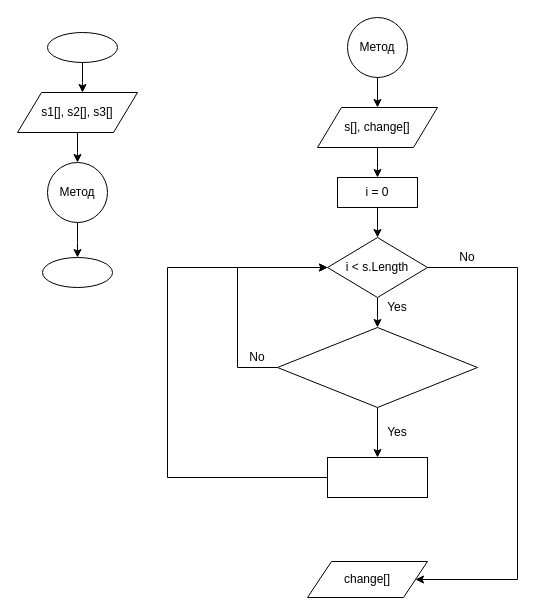
The diagram is 543 pixels wide and 615 high, and some of its shapes have lost their labels. Here are the shapes that lost their labels. From the top down, the centre of each, then its label:
At (x=82, y=47): "Начало".
At (x=77, y=272): "Конец".
At (x=377, y=367): "s[i].Length < change.Length".
At (x=377, y=477): "change[i] = s[i]".
